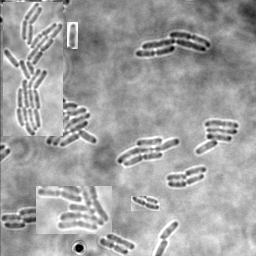Dividing: (167, 175, 204, 189), (99, 238, 128, 255), (131, 196, 160, 211), (67, 22, 78, 49)
Microcolony: (3, 2, 63, 136), (36, 186, 112, 234), (117, 137, 180, 168), (135, 32, 211, 57), (195, 120, 238, 155), (1, 208, 35, 229)
Rod: (106, 233, 135, 251), (157, 222, 178, 240), (184, 167, 206, 177), (166, 174, 187, 183)
